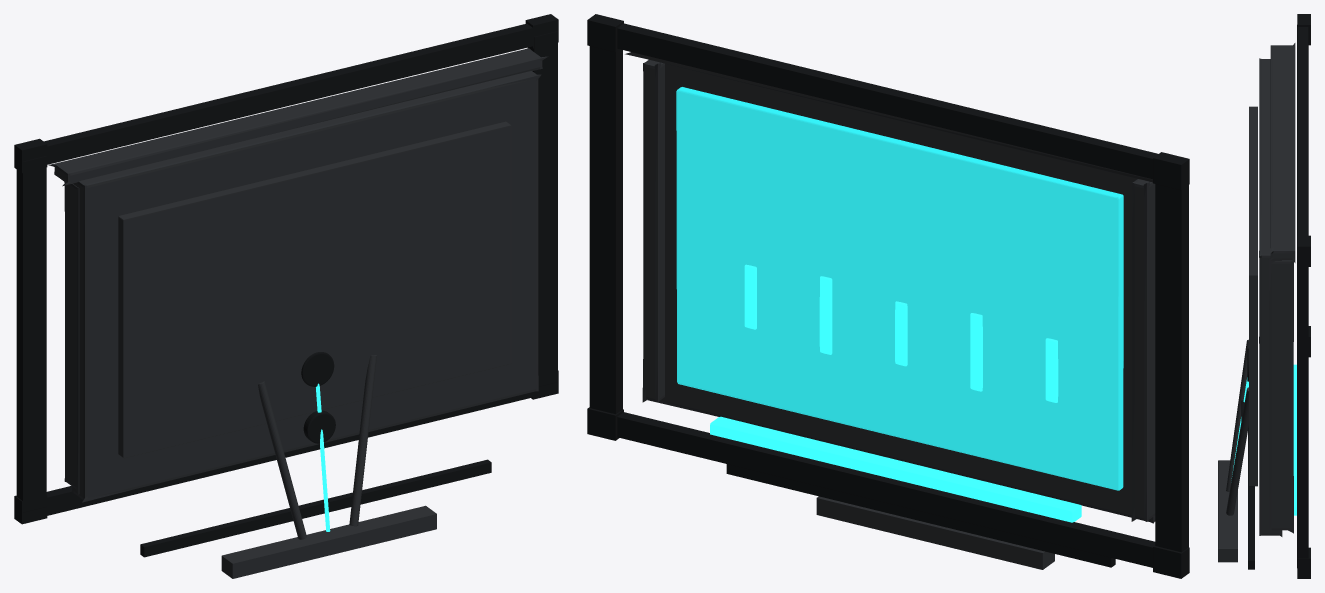
File: upper_monitor_2.glb
3 views of the same model, side by side, from view 1: azimuth 30°, elevation 25°; view 2: azimuth 150°, elevation 25°; view 3: azimuth 270°, elevation 25° (orthographic). The views are drawn at different scales.
Visible parts, largest first — view 1: arda_layered_rear_backplate, upper_monitor_2_rear_bezel, arda_armor_top_beveled_graphite, upper_monitor_2_top_trim, arda_armor_left_side_module, arda_armor_right_side_module, arda_low_profile_mount_foot, arda_under_screen_mount_rail, upper_monitor_2_left_side_bezel, arda_armor_bottom_beveled_graphite, arda_right_articulated_support_arm, arda_left_articulated_support_arm (+3 smaller); view 2: upper_monitor_2_screen_plane, upper_monitor_2_rear_bezel, arda_armor_top_beveled_graphite, arda_armor_bottom_beveled_graphite, arda_armor_left_side_module, arda_armor_right_side_module, upper_monitor_2_left_side_bezel, upper_monitor_2_bottom_cyan_trace, upper_monitor_2_right_side_bezel, arda_low_profile_mount_foot, arda_under_screen_mount_rail, upper_monitor_2_top_trim (+9 smaller); view 3: upper_monitor_2_right_side_bezel, upper_monitor_2_top_trim, upper_monitor_2_rear_bezel, arda_armor_right_side_module, arda_layered_rear_backplate, arda_armor_top_beveled_graphite, arda_low_profile_mount_foot, arda_right_articulated_support_arm, arda_left_articulated_support_arm, arda_under_screen_mount_rail, upper_monitor_2_bottom_cyan_trace, arda_corner_armor_r_t (+3 smaller).
Part boxes in pixels (box(x1,y1,x2,y2)): arda_layered_rear_backplate: box(118, 121, 511, 458); upper_monitor_2_rear_bezel: box(72, 71, 541, 502); arda_armor_top_beveled_graphite: box(44, 23, 532, 164); upper_monitor_2_top_trim: box(48, 48, 548, 186); arda_armor_left_side_module: box(16, 156, 46, 512); arda_armor_right_side_module: box(528, 31, 557, 386); arda_low_profile_mount_foot: box(221, 505, 436, 578); arda_under_screen_mount_rail: box(140, 459, 491, 557); upper_monitor_2_left_side_bezel: box(64, 182, 79, 494); arda_armor_bottom_beveled_graphite: box(46, 392, 532, 515); arda_right_articulated_support_arm: box(349, 355, 376, 526); arda_left_articulated_support_arm: box(258, 381, 306, 539); upper_monitor_2_screen_plane: box(676, 87, 1123, 490); upper_monitor_2_rear_bezel: box(647, 63, 1155, 523); arda_armor_top_beveled_graphite: box(617, 23, 1158, 179); arda_armor_bottom_beveled_graphite: box(617, 412, 1155, 567); arda_armor_left_side_module: box(1155, 184, 1188, 552); arda_armor_right_side_module: box(589, 46, 622, 414); upper_monitor_2_left_side_bezel: box(1131, 179, 1155, 521); upper_monitor_2_bottom_cyan_trace: box(710, 416, 1081, 522); upper_monitor_2_right_side_bezel: box(642, 59, 664, 402); arda_low_profile_mount_foot: box(816, 496, 1054, 569); arda_under_screen_mount_rail: box(726, 464, 1115, 567); upper_monitor_2_top_trim: box(625, 52, 1152, 182); upper_monitor_2_right_side_bezel: box(1268, 258, 1293, 533); upper_monitor_2_top_trim: box(1270, 43, 1295, 262); upper_monitor_2_rear_bezel: box(1259, 58, 1282, 536); arda_armor_right_side_module: box(1297, 246, 1308, 567); arda_layered_rear_backplate: box(1249, 106, 1257, 486); arda_armor_top_beveled_graphite: box(1297, 27, 1308, 235); arda_low_profile_mount_foot: box(1218, 460, 1237, 562); arda_right_articulated_support_arm: box(1226, 387, 1248, 515); arda_left_articulated_support_arm: box(1226, 339, 1248, 491); arda_under_screen_mount_rail: box(1248, 426, 1254, 569); upper_monitor_2_bottom_cyan_trace: box(1293, 364, 1296, 515); arda_corner_armor_r_t: box(1297, 235, 1310, 266).
Bounding box in the file's own units: 1.8 × 1.4 × 0.3027.
